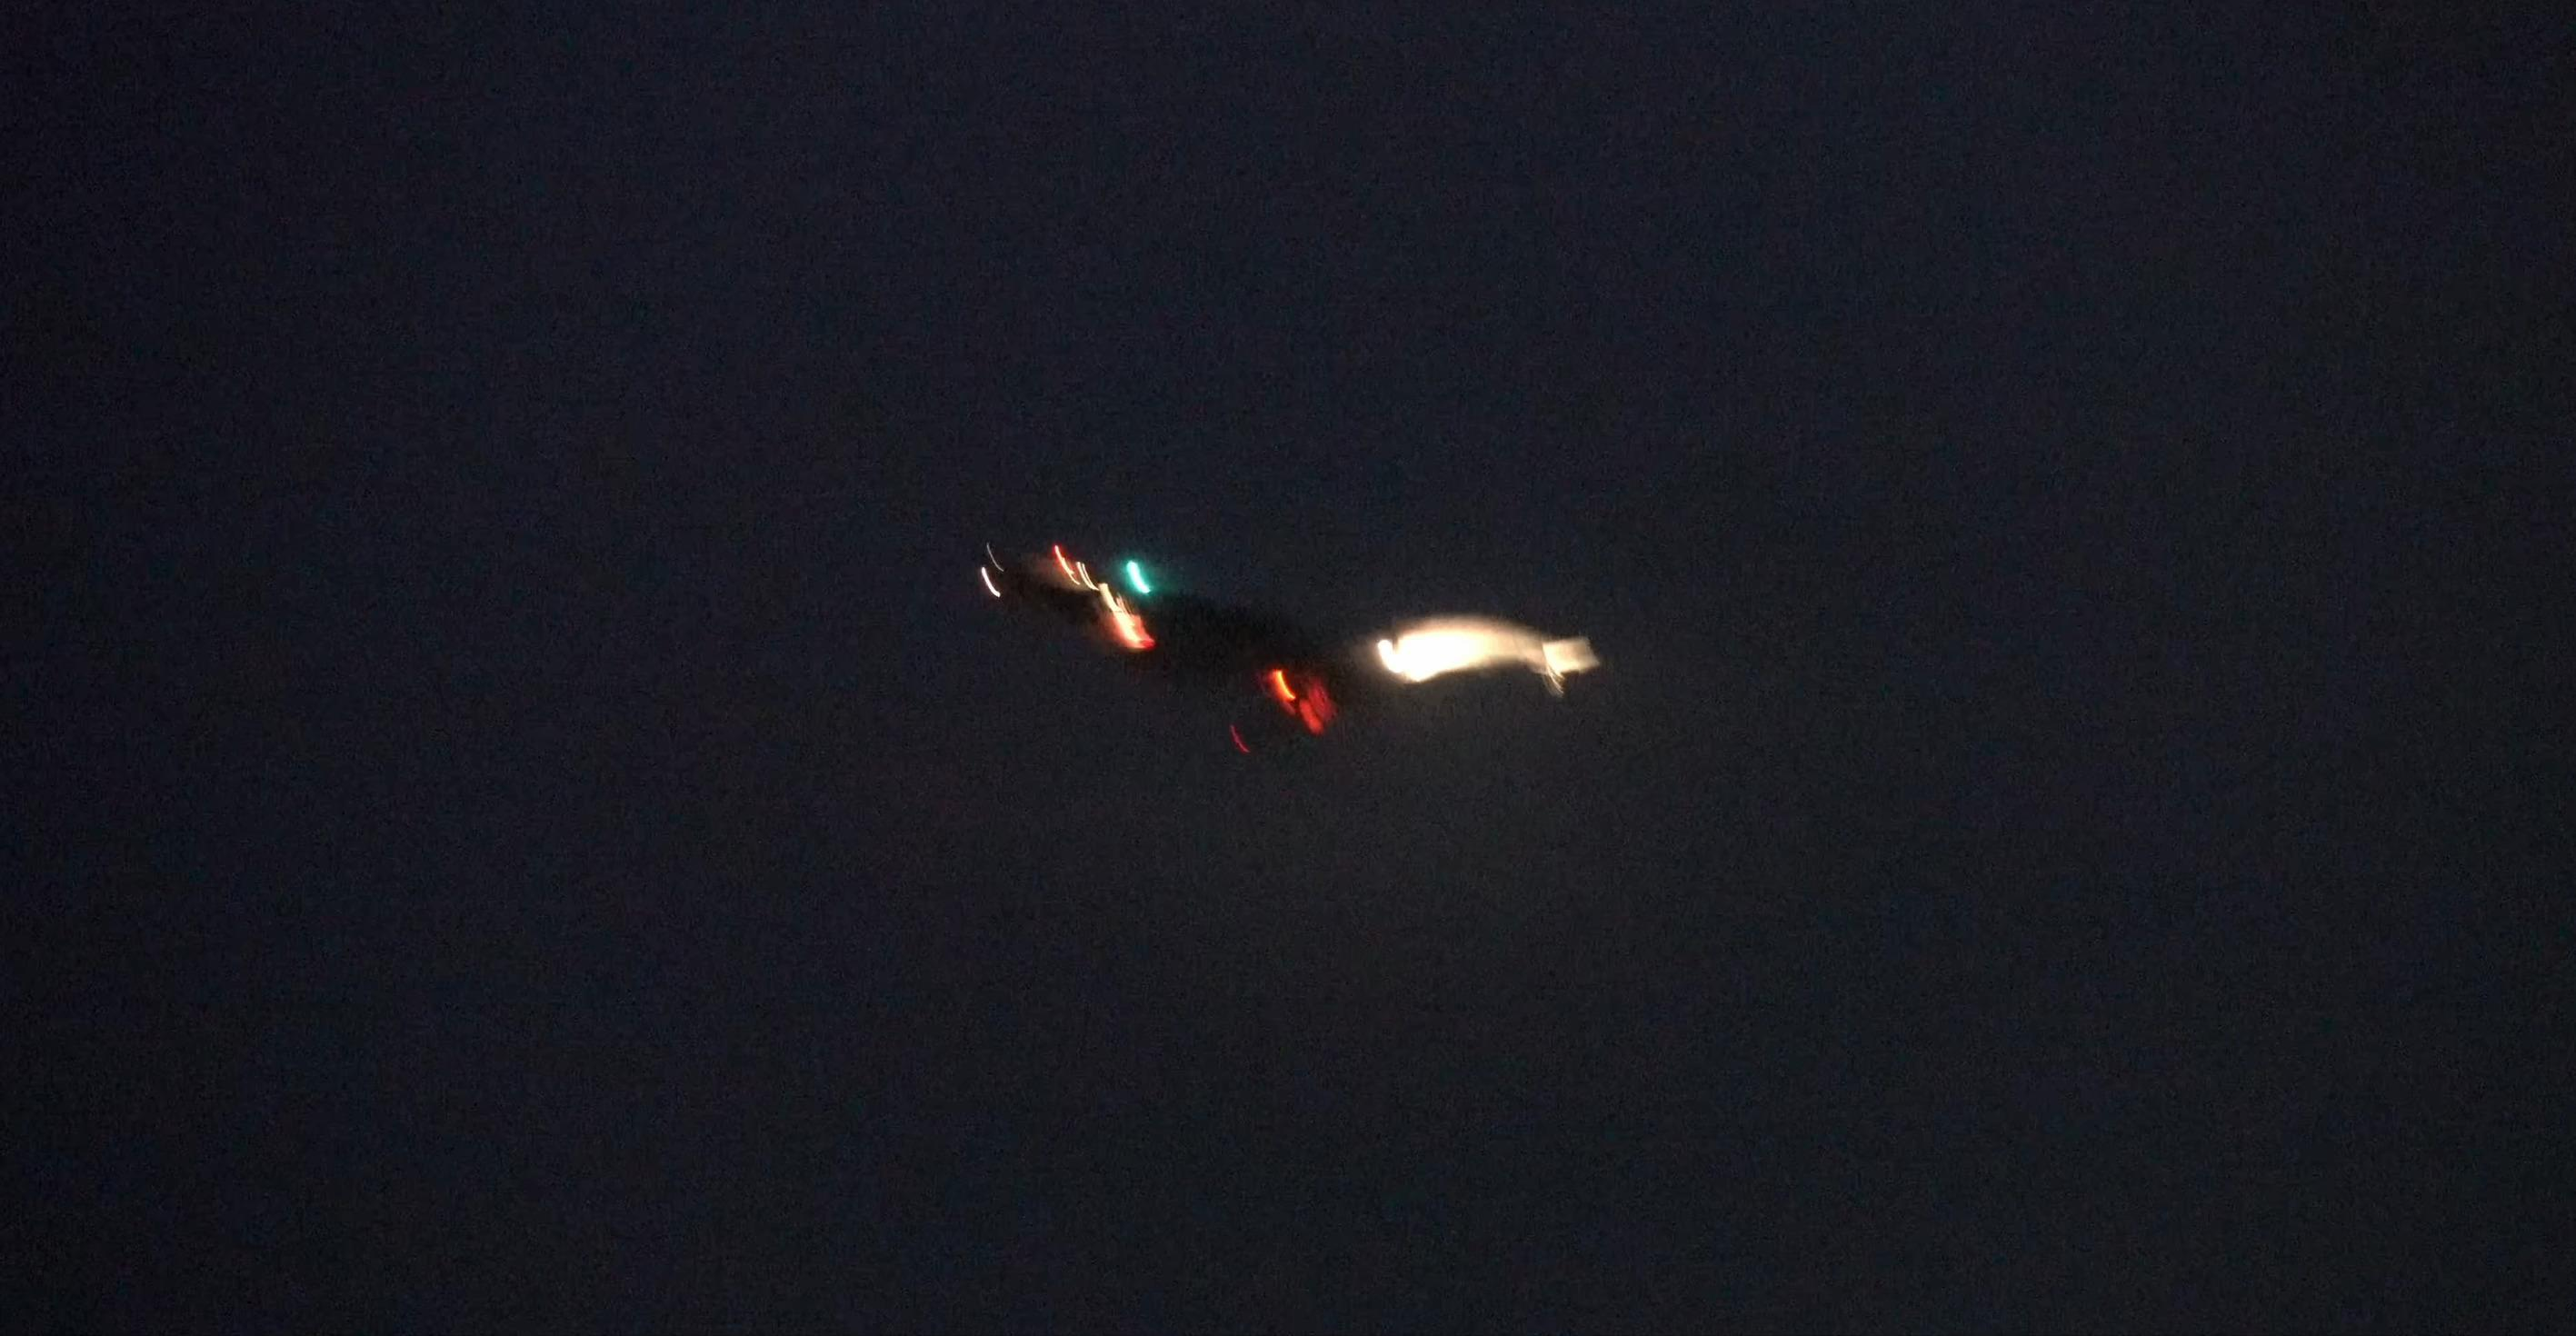Plane: (986, 523, 1593, 736)
